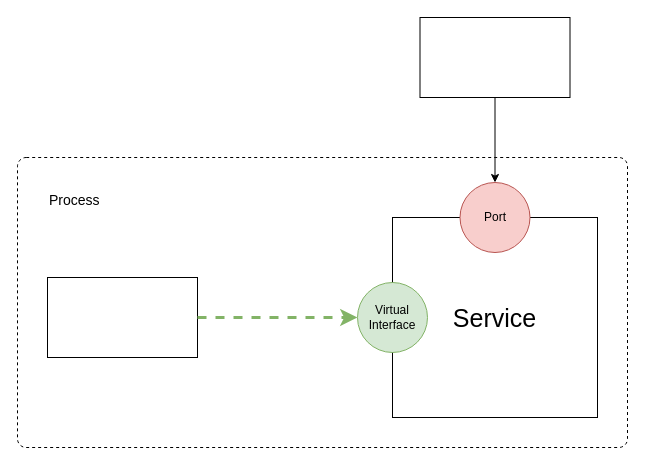
Some shapes in this 645 by 465 pixel diagram are drawn without their labels. Each missing label, with the centre of its shape:
"Monolithizated Service" goes at point 122,317.
"Remote service" goes at point 494,57.
